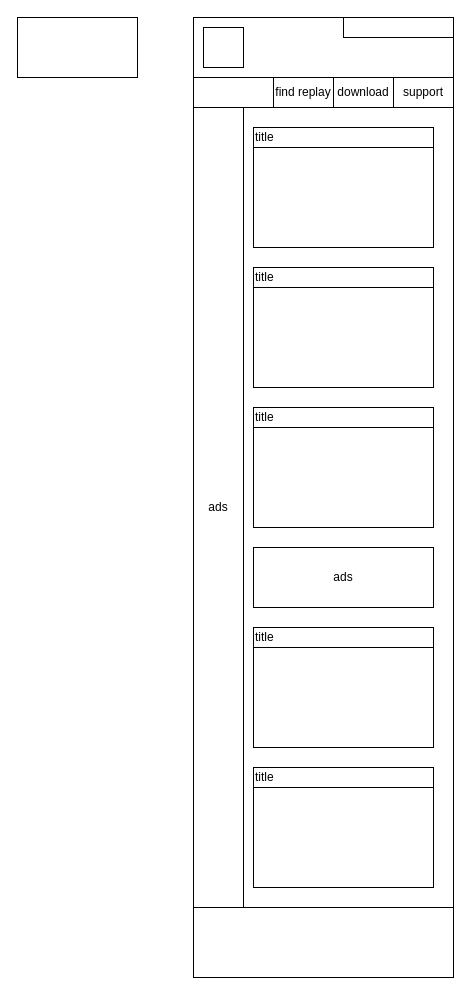
This 471x995 diagram has some shape labels left out. Each missing label, with the centre of its shape:
home page: the point at 77,47
login or create account: the point at 398,27
rep con: the point at 223,47
upload: the point at 233,92
